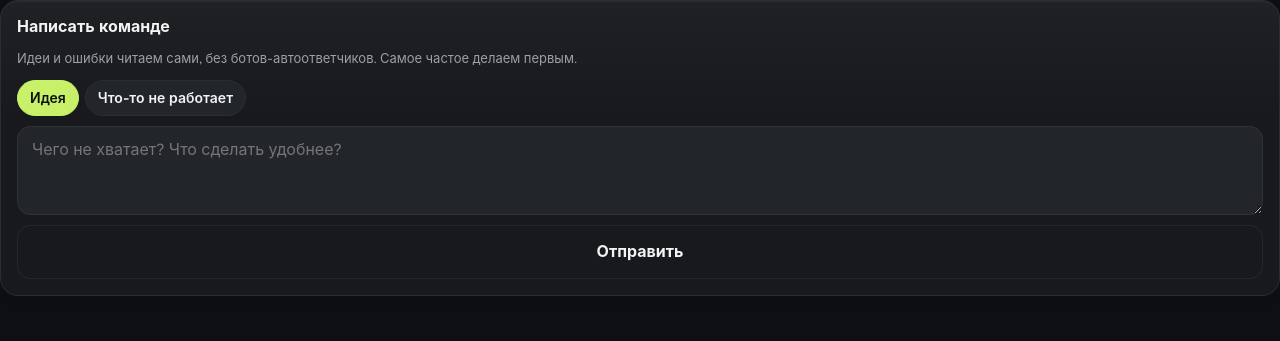
it: an idea goes to the team; too short is stopped here
The image size is (1280, 341).
Click the button "Отправить" at point(640, 252), box [17,225,1263,279]
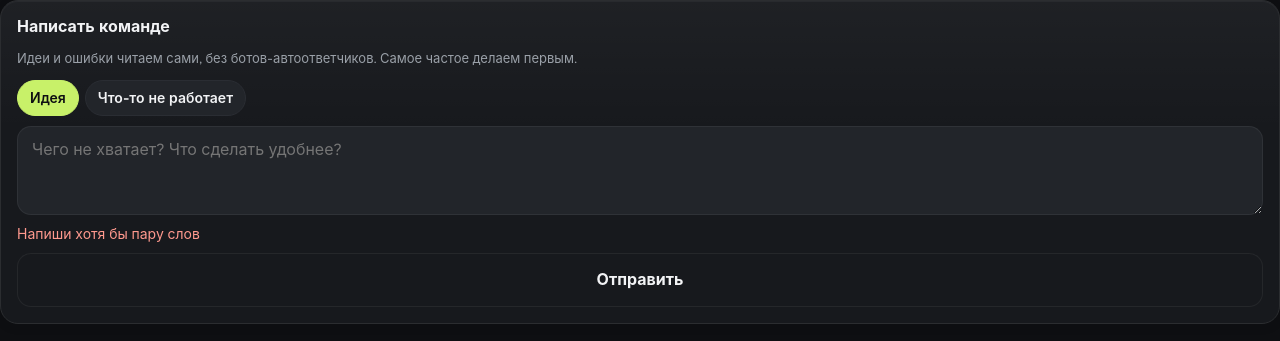
Check: the message shows "пару слов", box [17,225,200,243]
Click the button "Что-то не работает" at point(165, 98), box [85,80,246,116]
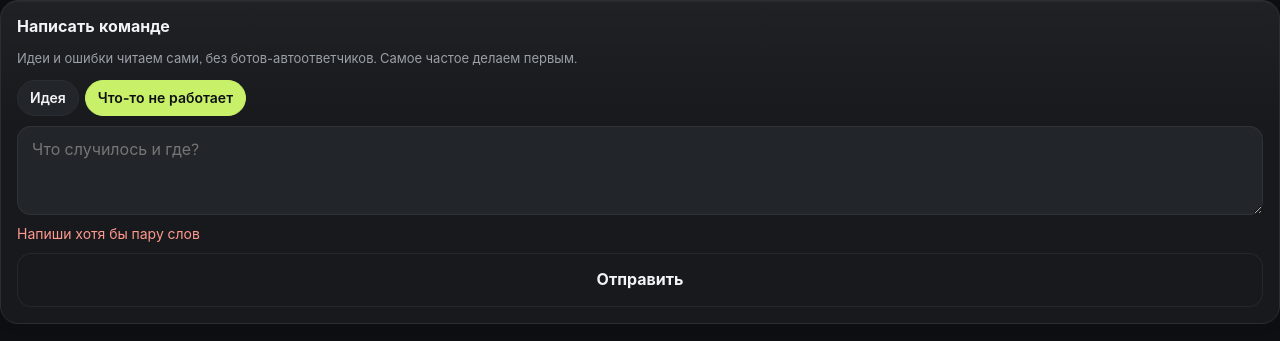
Type "Сканер не видит код" into the text box named "Сообщение" at point(640, 170), box [17,126,1263,215]
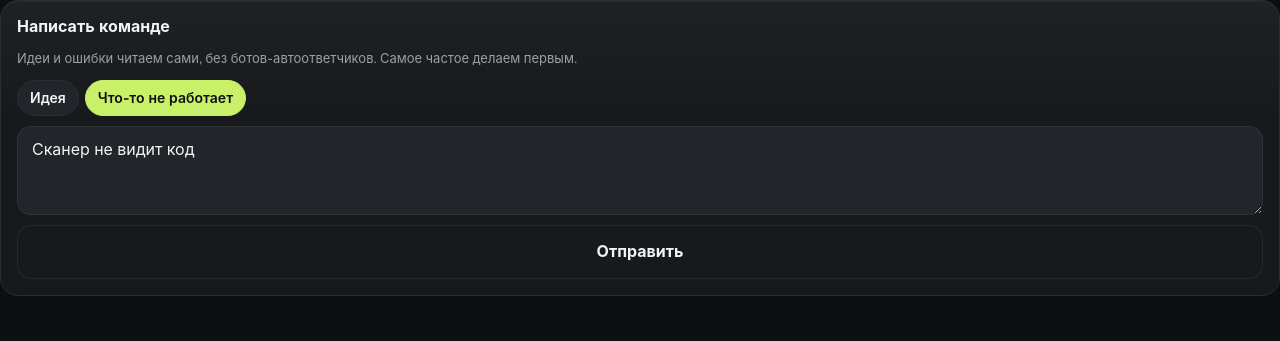
Click the button "Отправить" at point(640, 252), box [17,225,1263,279]
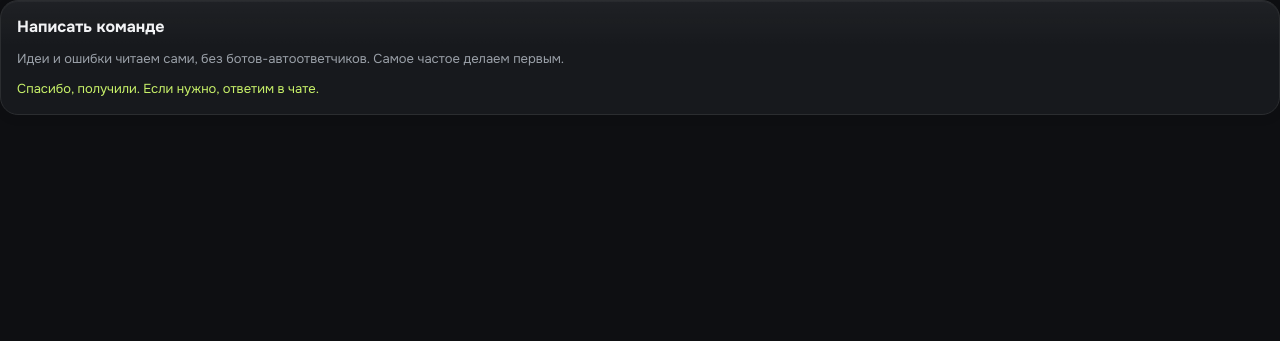
Check: the message shows "Спасибо", box [17,80,319,97]
